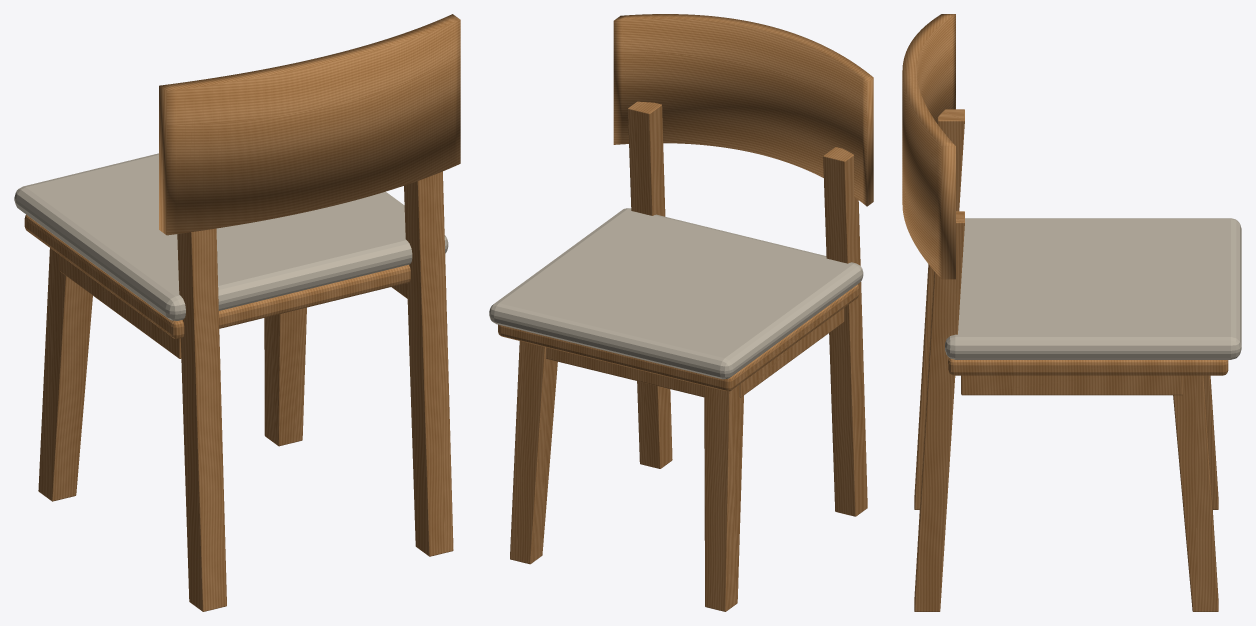
The model's file is FURN_CHAIR_DINING_OAK.glb.
3 renders of one model, left to right at view 1: azimuth 30°, elevation 25°; view 2: azimuth 150°, elevation 25°; view 3: azimuth 270°, elevation 25°, orthographic. The views are drawn at different scales.
Visible parts, largest first — view 1: Curved_Oak_Backrest, Upholstered_Seat, Rear_Oak_Leg, Rear_Oak_Leg.001, Front_Oak_Leg, Oak_Seat_Frame, Front_Oak_Leg.001, Seat_Side_Rail; view 2: Upholstered_Seat, Curved_Oak_Backrest, Rear_Oak_Leg, Front_Oak_Leg, Front_Oak_Leg.001, Rear_Oak_Leg.001, Oak_Seat_Frame, Front_Seat_Rail, Seat_Side_Rail; view 3: Upholstered_Seat, Curved_Oak_Backrest, Rear_Oak_Leg.001, Front_Oak_Leg.001, Seat_Side_Rail.001, Oak_Seat_Frame, Rear_Oak_Leg, Front_Oak_Leg.
Part boxes in pixels (bbox=[...]): Curved_Oak_Backrest: bbox=[159, 14, 460, 235]; Upholstered_Seat: bbox=[14, 153, 448, 320]; Rear_Oak_Leg: bbox=[177, 228, 226, 611]; Rear_Oak_Leg.001: bbox=[404, 171, 453, 556]; Front_Oak_Leg: bbox=[38, 248, 92, 501]; Oak_Seat_Frame: bbox=[24, 214, 410, 338]; Front_Oak_Leg.001: bbox=[264, 307, 306, 446]; Seat_Side_Rail: bbox=[59, 255, 181, 358]; Upholstered_Seat: bbox=[489, 208, 863, 379]; Curved_Oak_Backrest: bbox=[613, 14, 873, 206]; Rear_Oak_Leg: bbox=[823, 147, 867, 516]; Front_Oak_Leg: bbox=[704, 384, 743, 611]; Front_Oak_Leg.001: bbox=[510, 341, 557, 564]; Rear_Oak_Leg.001: bbox=[628, 101, 672, 468]; Oak_Seat_Frame: bbox=[498, 284, 859, 391]; Front_Seat_Rail: bbox=[546, 347, 704, 397]; Seat_Side_Rail: bbox=[739, 308, 844, 397]; Upholstered_Seat: bbox=[945, 218, 1241, 359]; Curved_Oak_Backrest: bbox=[902, 14, 955, 279]; Rear_Oak_Leg.001: bbox=[914, 211, 964, 611]; Front_Oak_Leg.001: bbox=[1173, 375, 1218, 611]; Seat_Side_Rail.001: bbox=[961, 375, 1182, 395]; Oak_Seat_Frame: bbox=[948, 358, 1228, 375]; Rear_Oak_Leg: bbox=[914, 109, 964, 509]; Front_Oak_Leg: bbox=[1204, 375, 1218, 509].
Size of the model in its own units: 0.48 by 0.82 by 0.52.
2 materials, 1 textured.
